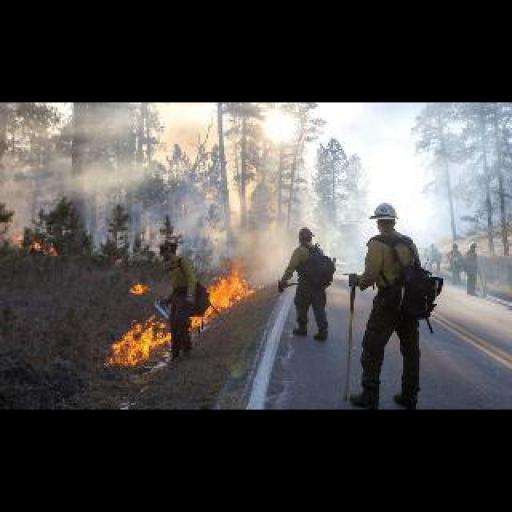smoke: (189, 262, 261, 326), (112, 312, 170, 365), (10, 230, 54, 254), (130, 282, 146, 292)
